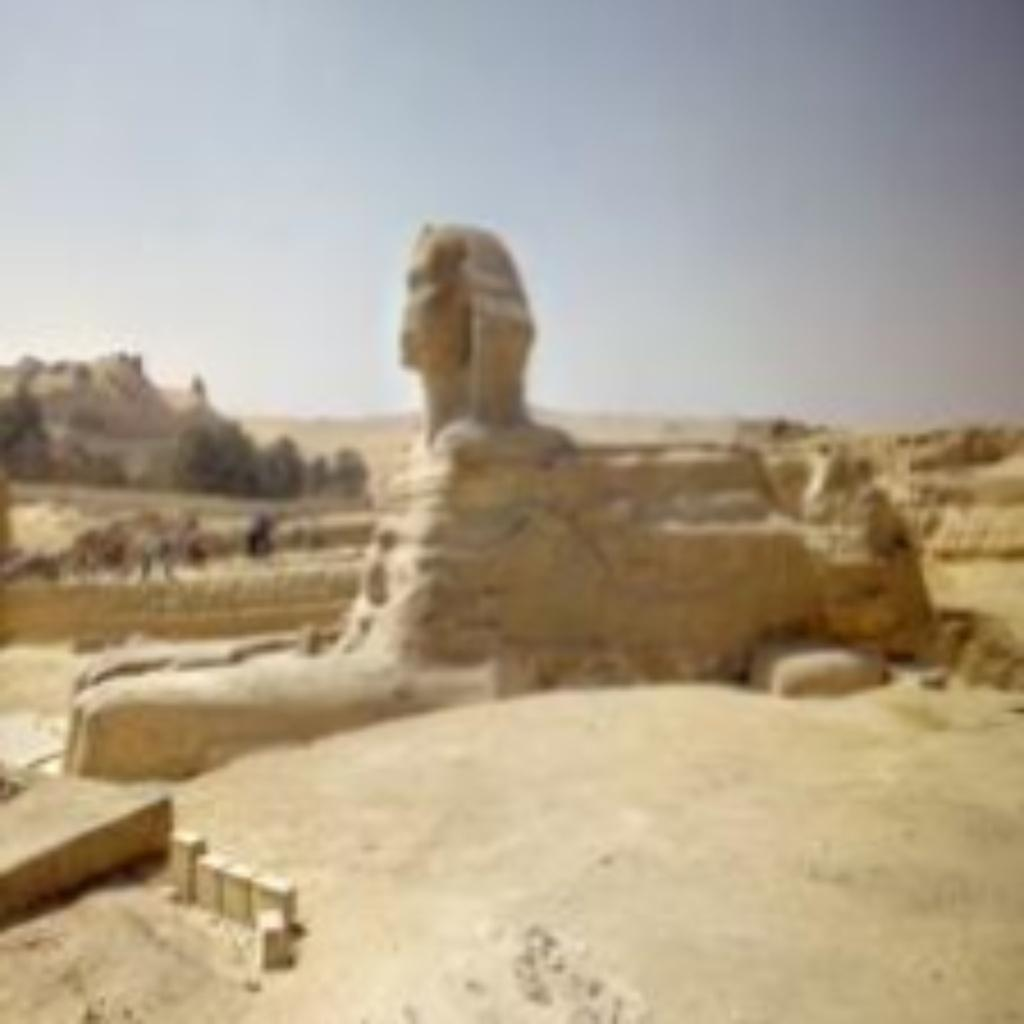Sphinx: (54, 210, 964, 782)
